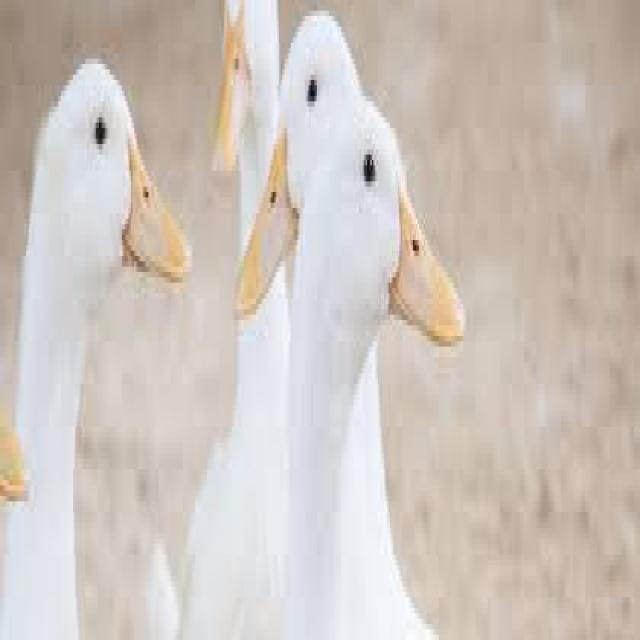Duck: (255, 48, 486, 640), (11, 54, 201, 640), (234, 27, 411, 630)
